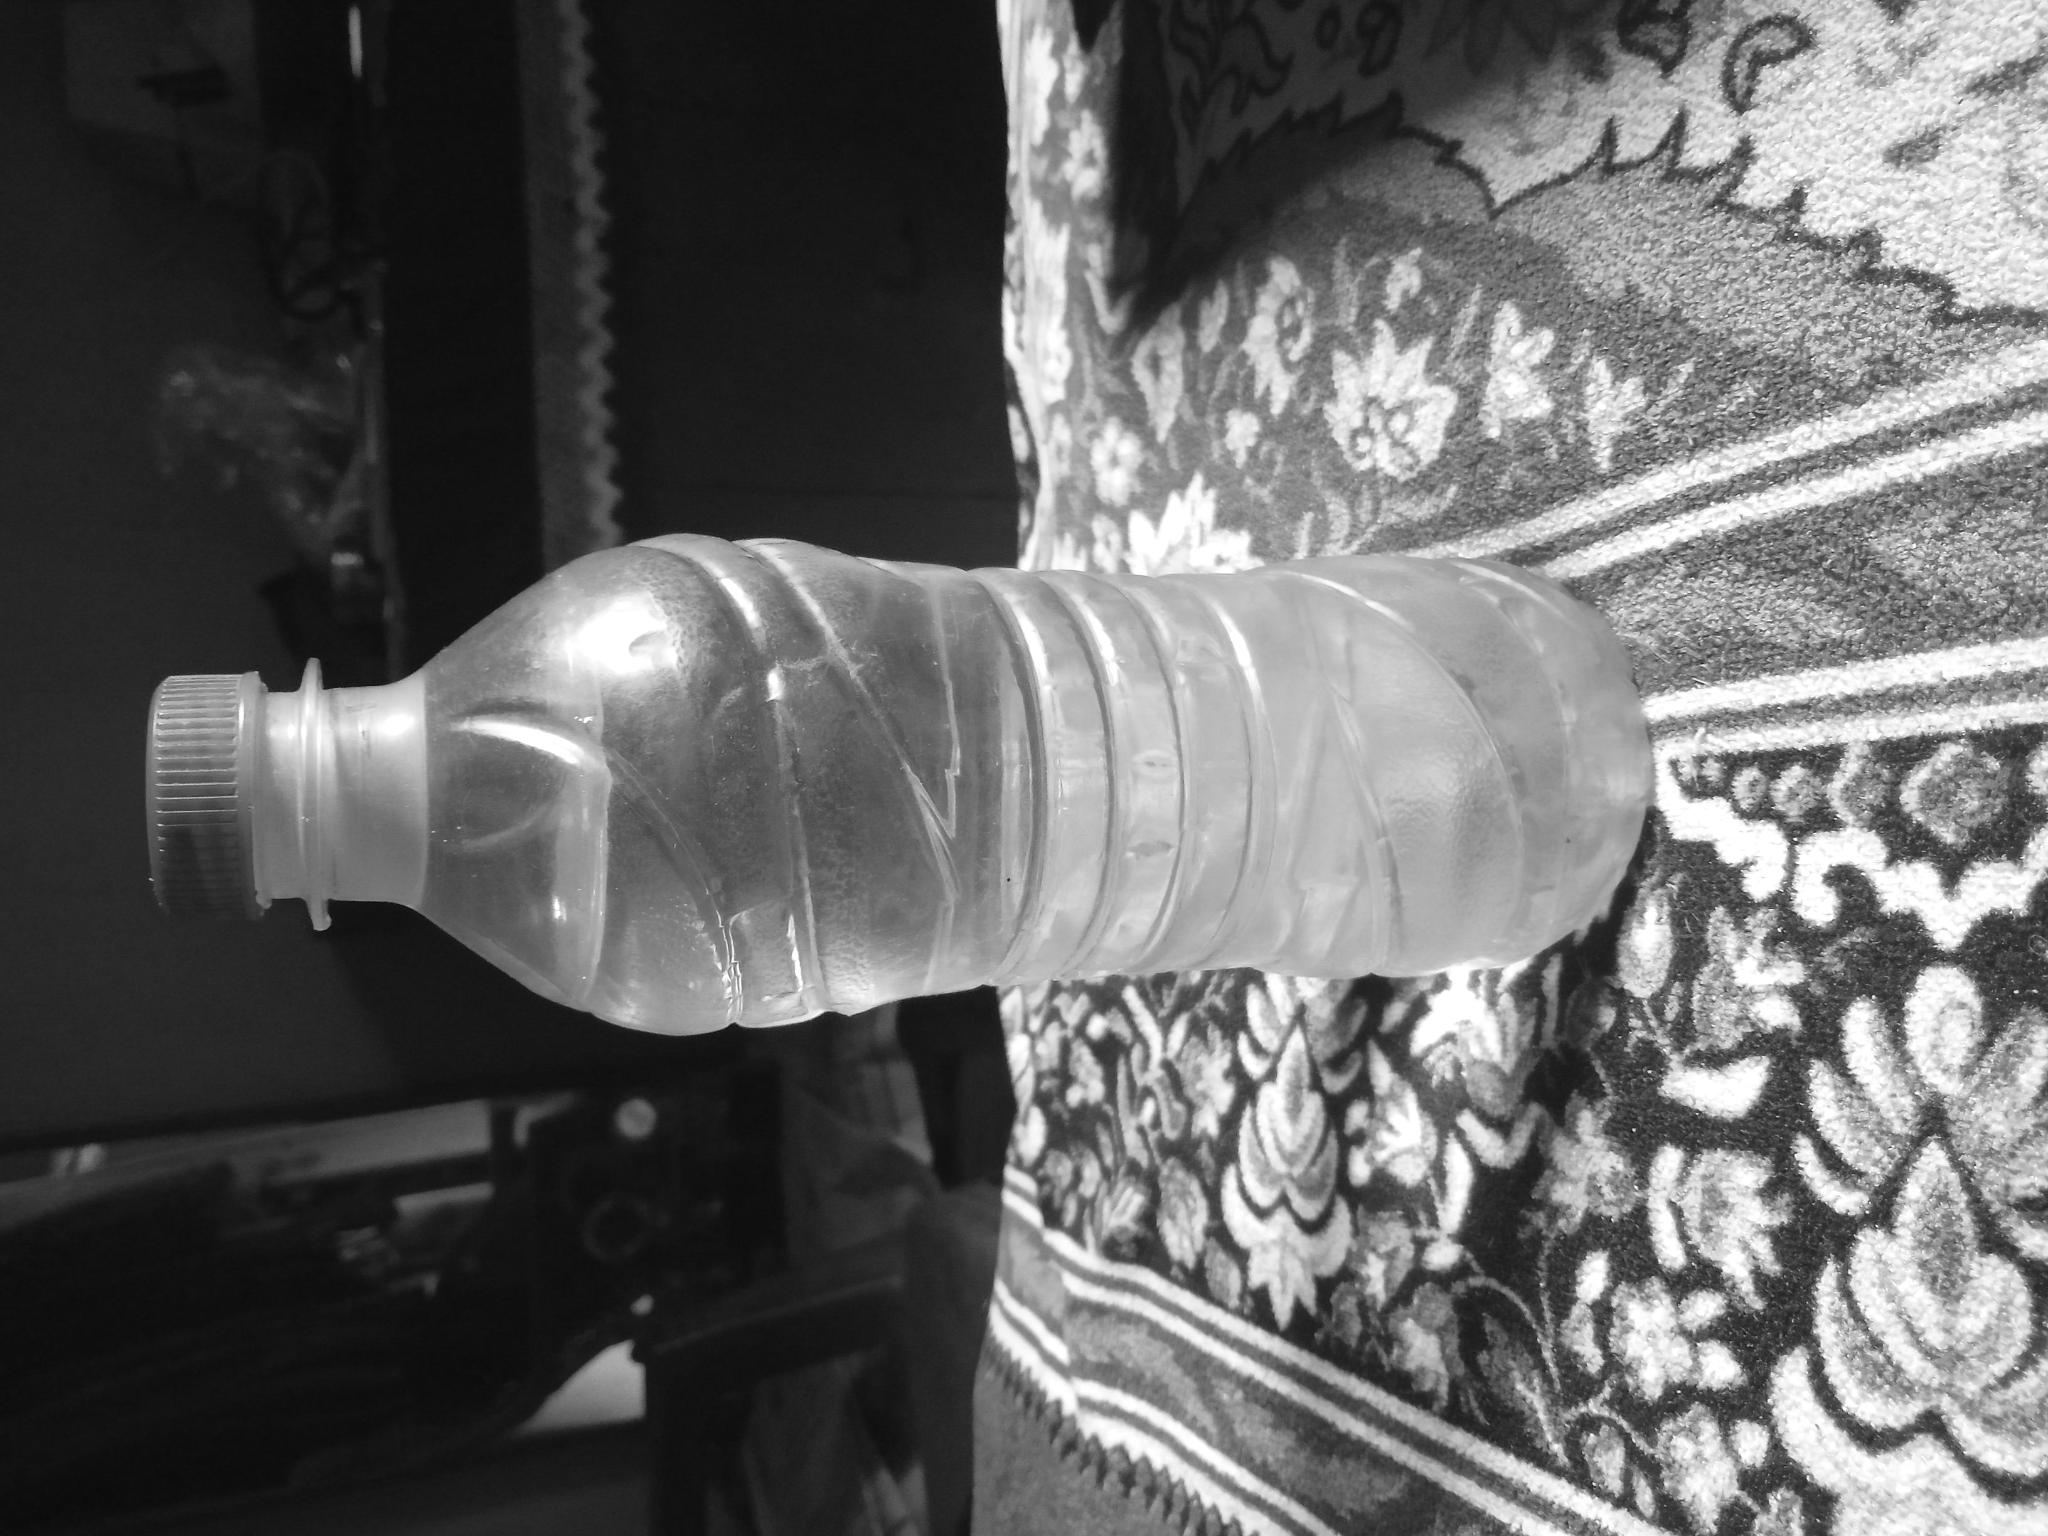bottle: (144, 520, 1646, 1042)
